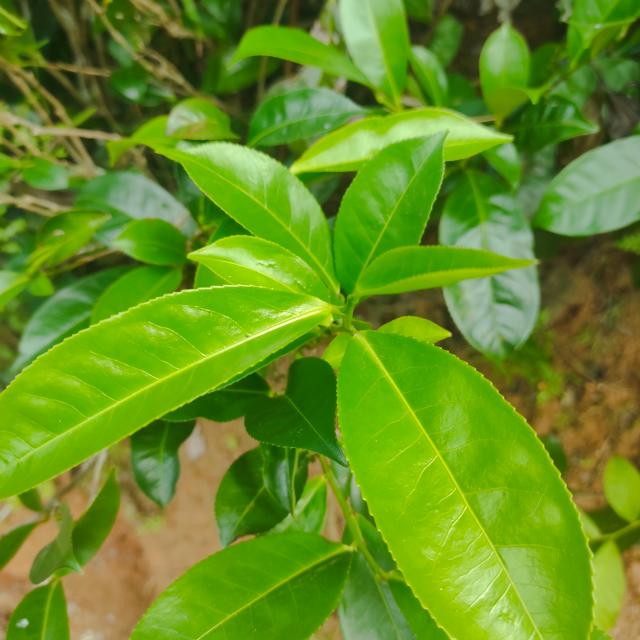unopened_leaf: (15, 235, 68, 286)
